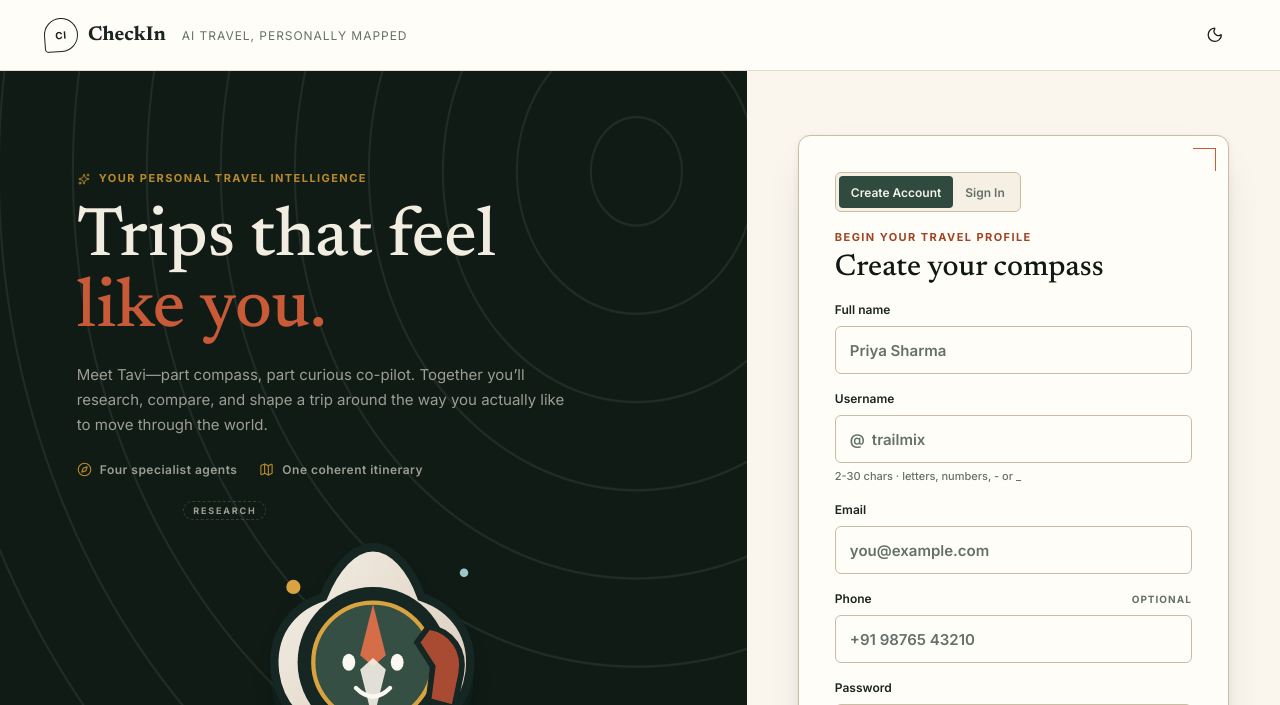
Test: shows the username as Taken when the lookup succeeds
Type "wanderer" into the field labelled "Username". click: (1028, 439)
box: x1=865 y1=416 x2=1191 y2=462
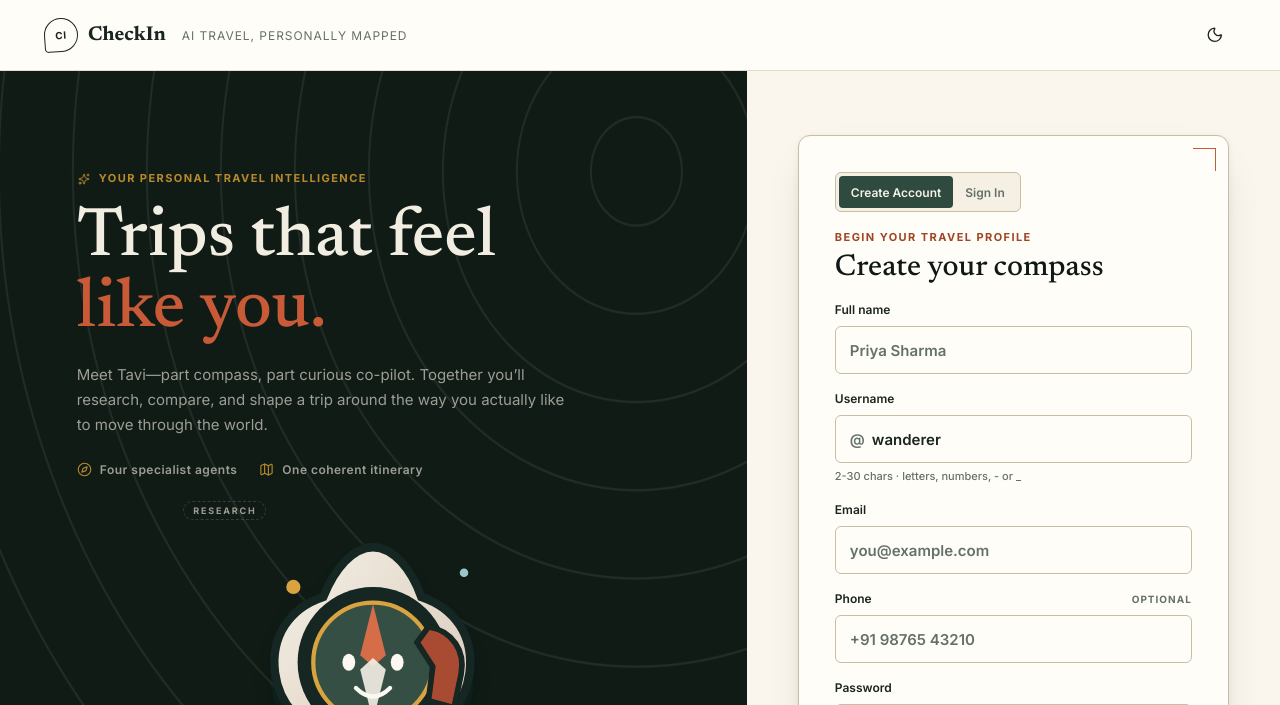
Leave the field labelled "Username", box x1=865 y1=416 x2=1191 y2=462
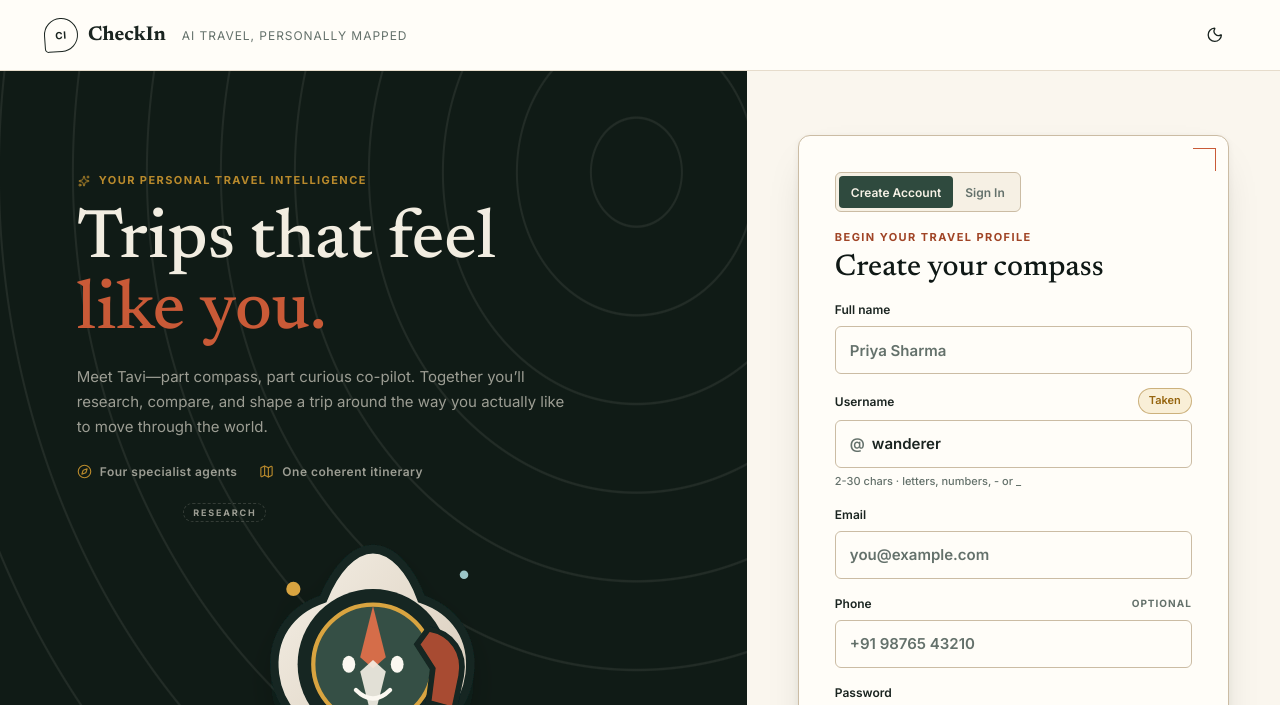
Expected: the text "Taken" is shown, x1=1138 y1=388 x2=1192 y2=414
